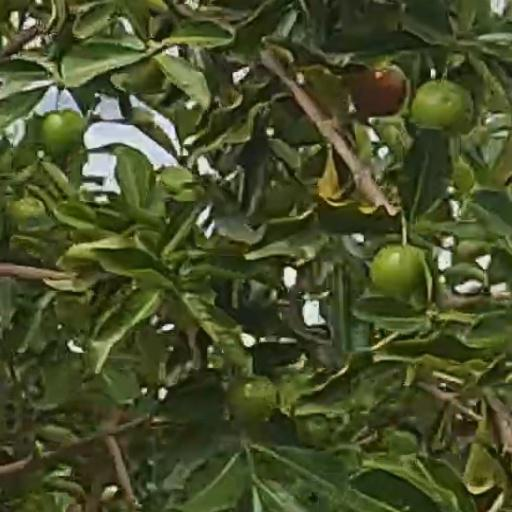acerola: (415, 81, 475, 135), (354, 65, 406, 114), (373, 246, 424, 293), (41, 115, 89, 158)
